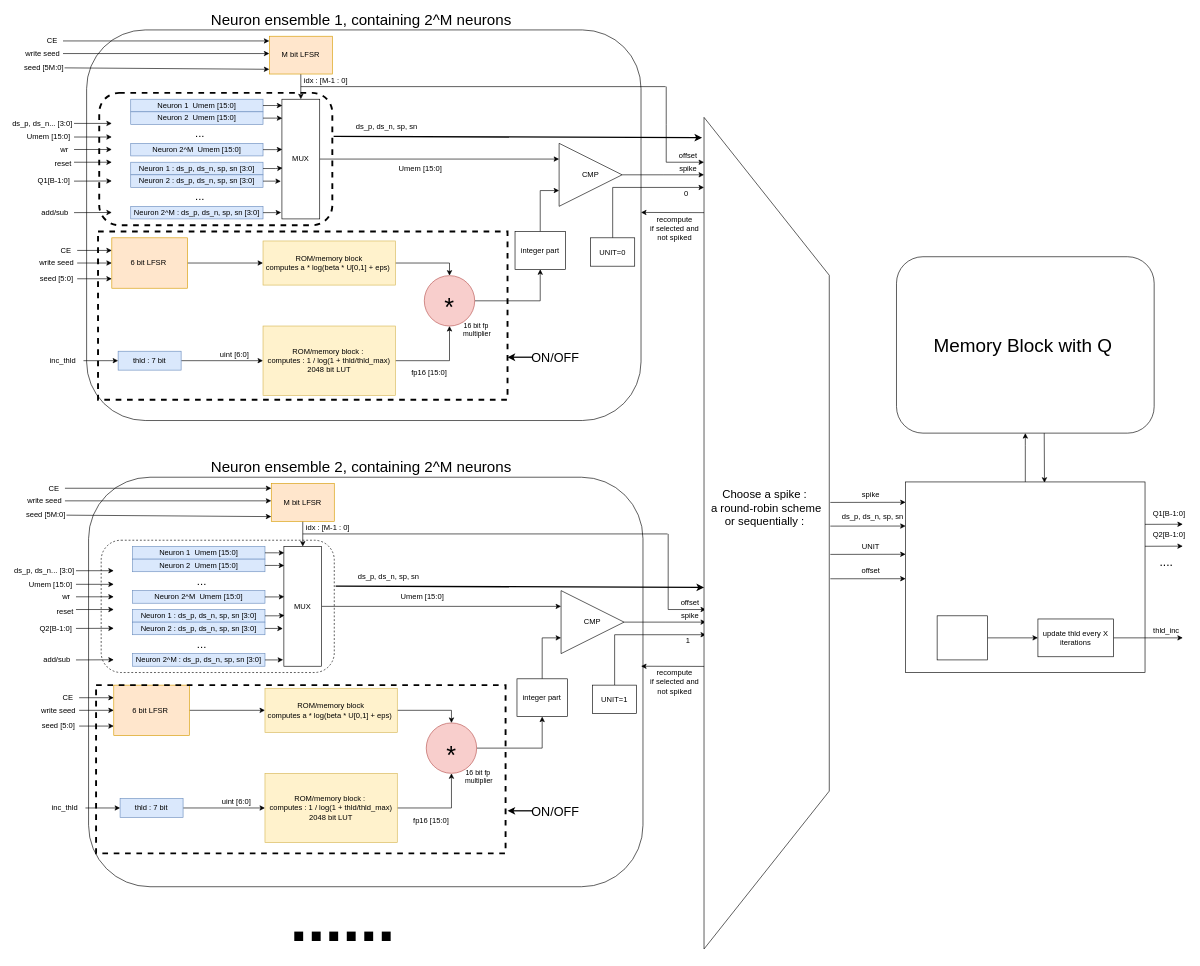
Image size: 1200x966. Some labels were removed from this diagram. The shapes that lost their labels are listed below. From the top down, each one's box as (x1, y1, x2, y2) in pixels, then its label:
(905, 481, 1145, 673): Fetch from memory (offset + UNIT * 2^M)th row, and update the membranes
(936, 615, 988, 660): 48 bit counter
